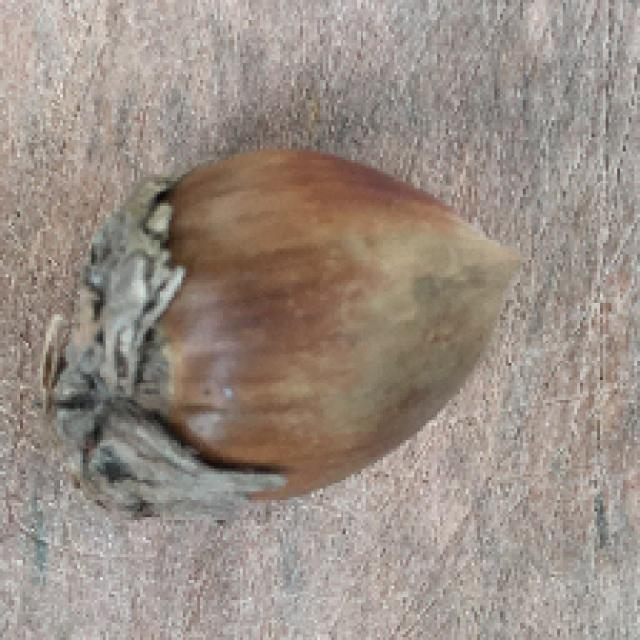damagedHazelnut: (53, 145, 519, 514)
